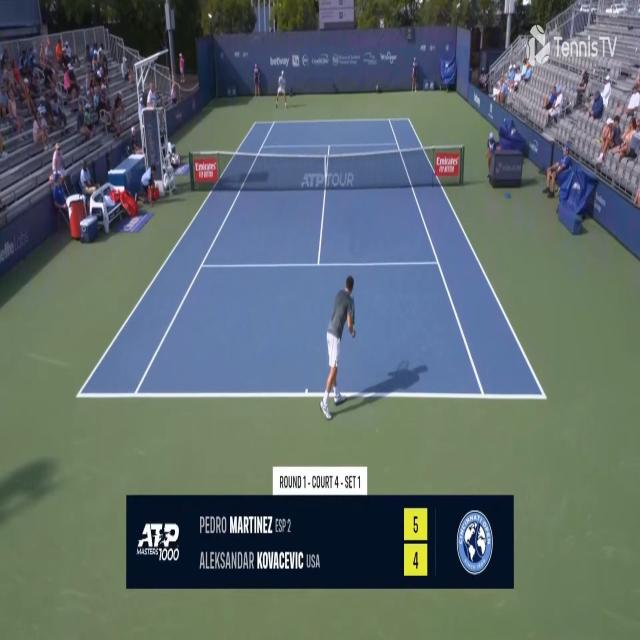tennis-player: (318, 270, 358, 423), (275, 69, 291, 109)
